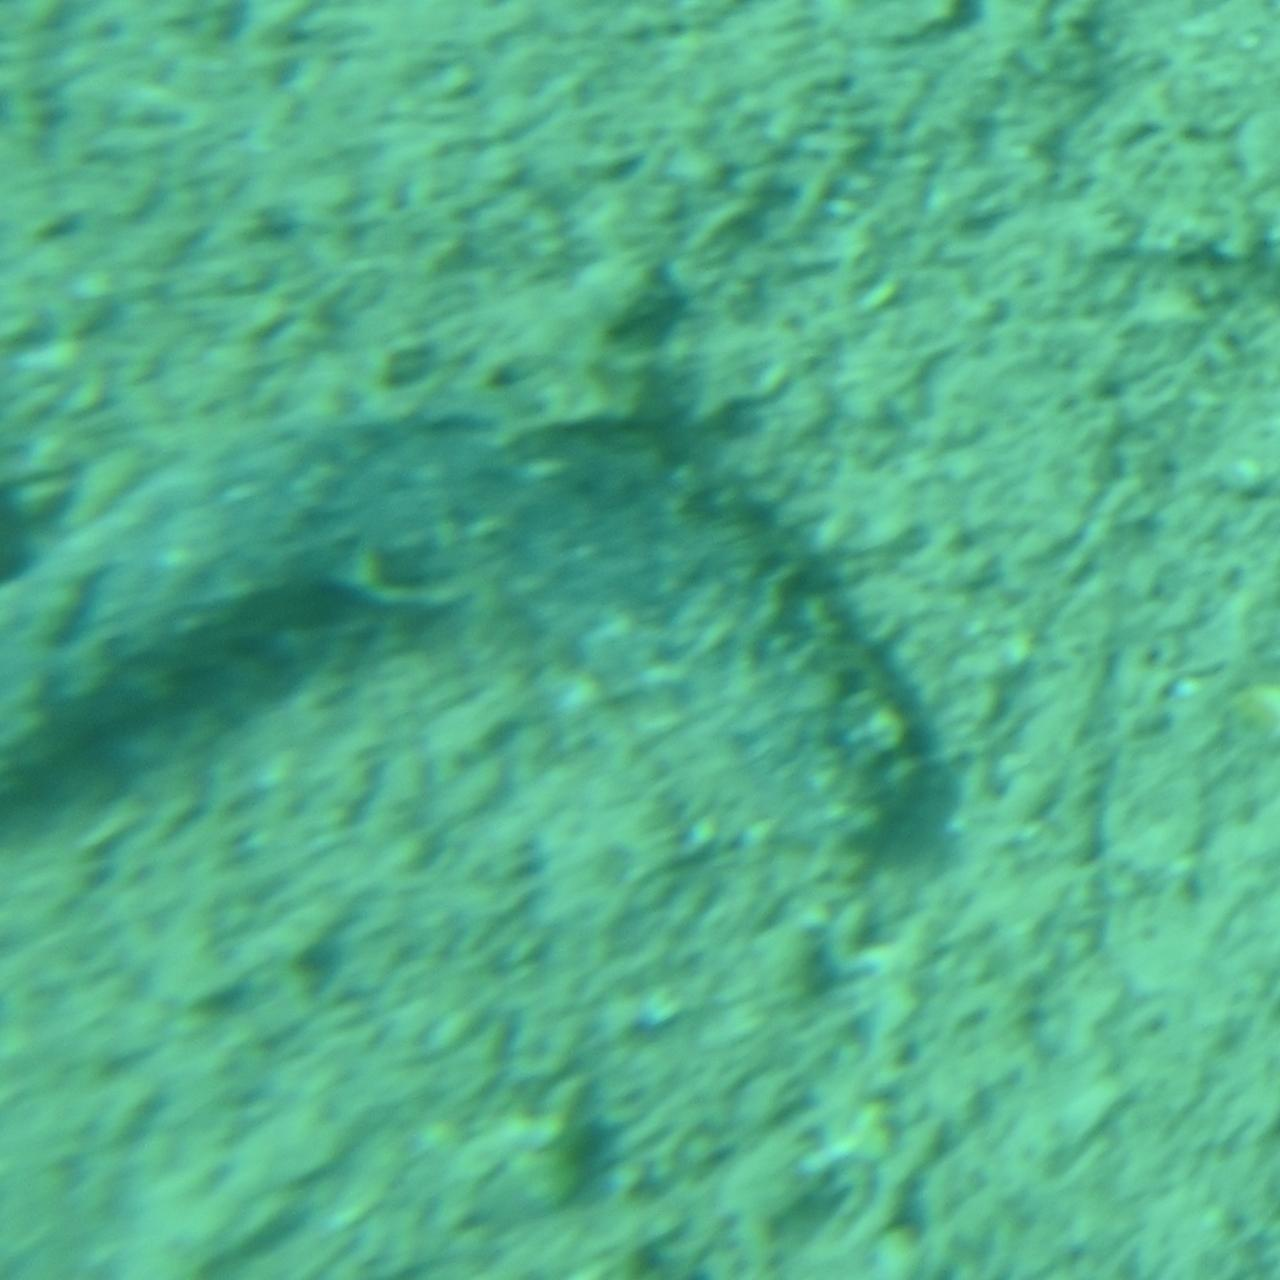Holothuria tubulosa: (2, 390, 952, 890)
